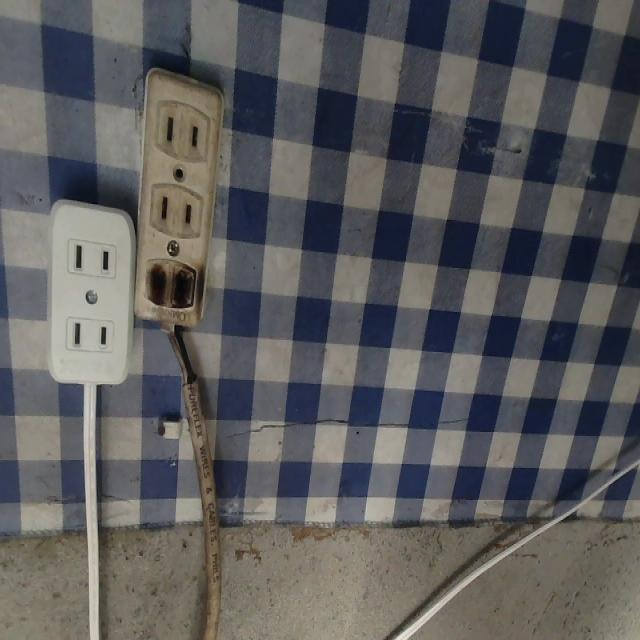-: (137, 252, 200, 317)
